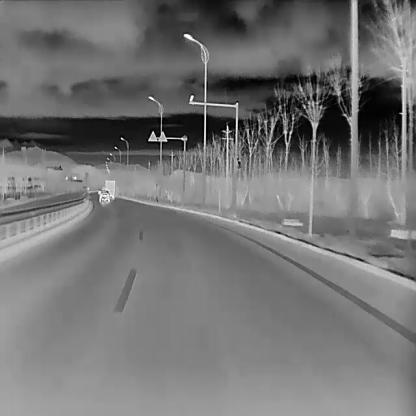car: (99, 190, 110, 202)
truck: (104, 179, 115, 198)
